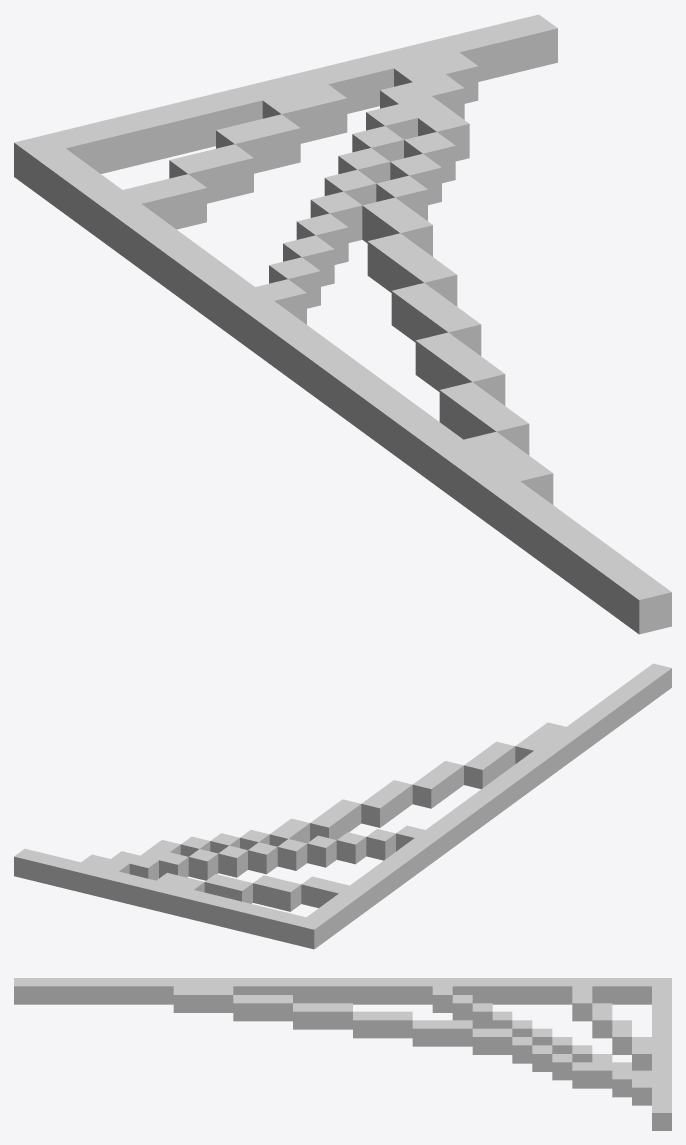
File: cobwebs.obj
3 renders of one model, top to bottom at view 1: azimuth 30°, elevation 25°; view 2: azimuth 150°, elevation 25°; view 3: azimuth 270°, elevation 25°, orthographic. The views are drawn at different scales.
Size of the model in its own units: 1.6 by 0.1 by 3.3.
Materials: 1 (1 with a texture image).
